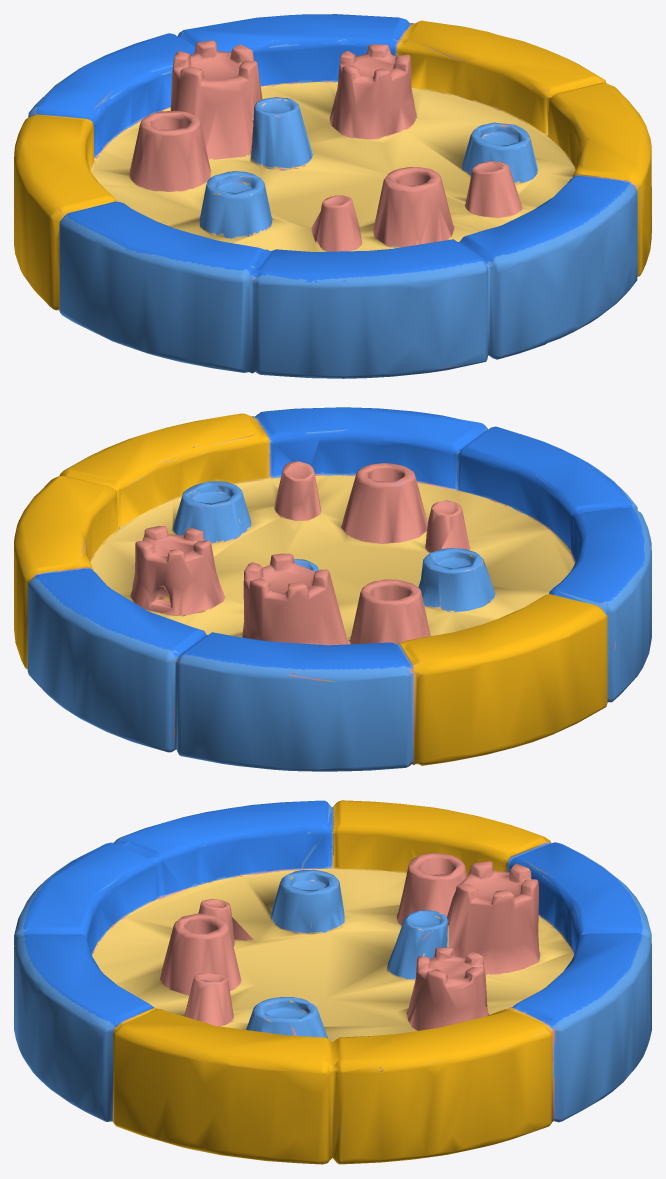
Rendered from play_sandbox.glb.
The picture shows the model from 3 angles, top to bottom: view 1: azimuth 30°, elevation 25°; view 2: azimuth 150°, elevation 25°; view 3: azimuth 270°, elevation 25°; orthographic projection.
Parts seen in each view (by area): view 1: Mesh_0; view 2: Mesh_0; view 3: Mesh_0.
Part boxes in pixels (x1=…): Mesh_0: x1=14, y1=14, x2=651, y2=378; Mesh_0: x1=14, y1=407, x2=651, y2=771; Mesh_0: x1=14, y1=800, x2=651, y2=1164.
Size of the model in its own units: 1.9 by 0.474 by 1.89.
Materials: 1 (1 with a texture image).
